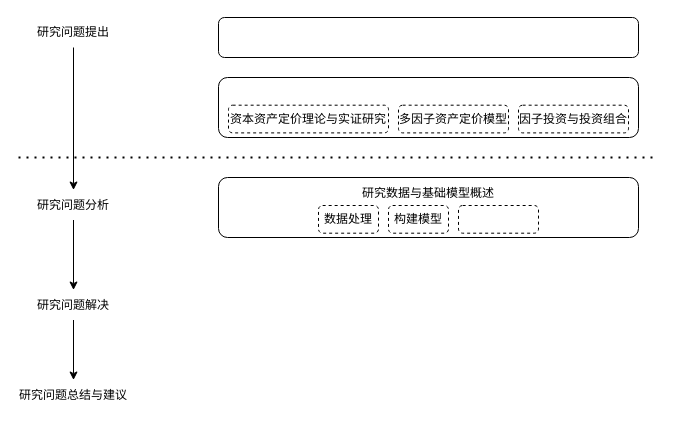
The diagram is 677 pixels wide and 427 high, and some of its shapes have lost their labels. Each missing label, with the box of its shape:
基础模型概述: (458, 204, 538, 233)
理论基础与文献分析 1 1: (218, 76, 638, 138)
选题背景与意义、研究思路与结构、研究方法与创新: (218, 16, 638, 58)
